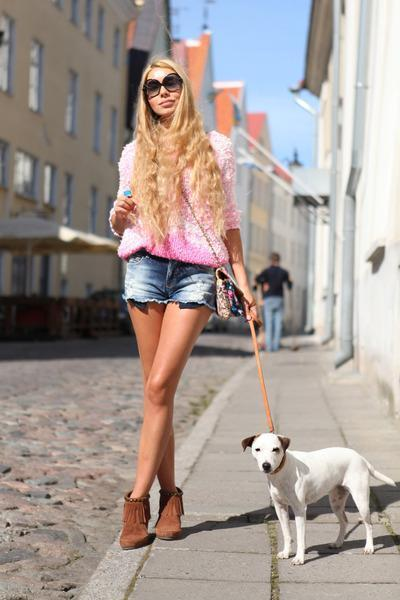bag: (204, 276, 248, 317)
jacket: (109, 132, 248, 269)
shoe: (120, 483, 183, 549)
shorts: (119, 247, 233, 323)
sunglass: (146, 72, 179, 100)
